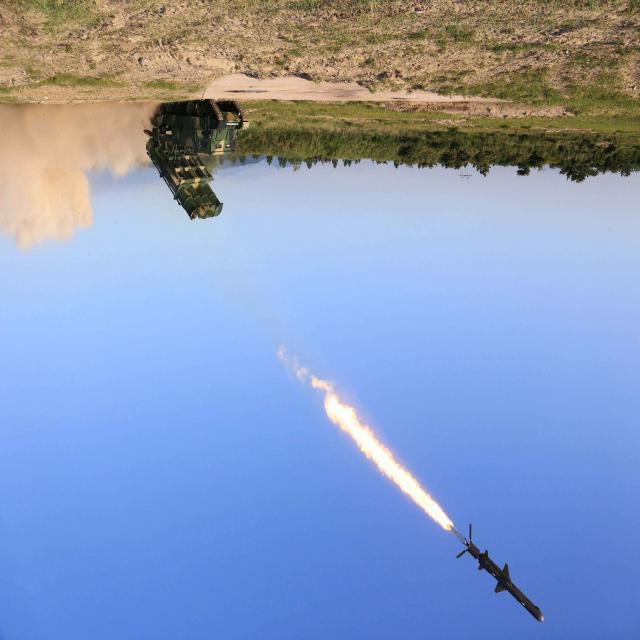Missile: (446, 523, 551, 640)
